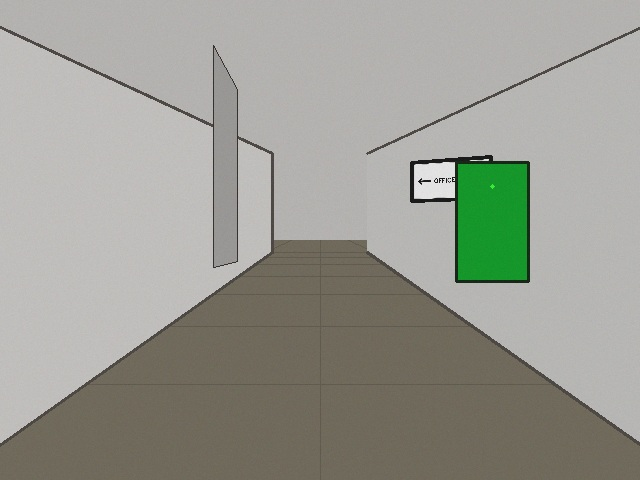charging_station: (456, 162, 528, 281)
directional_sign: (411, 156, 491, 201)
